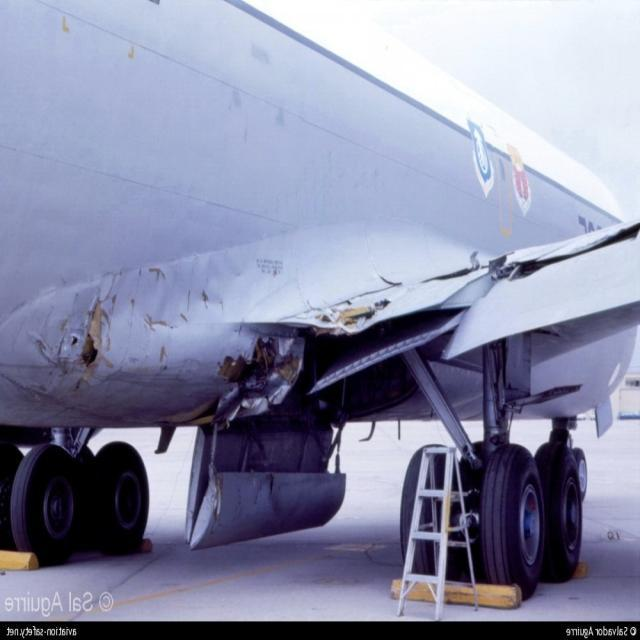crack: (81, 300, 108, 375)
dent: (156, 259, 245, 325)
